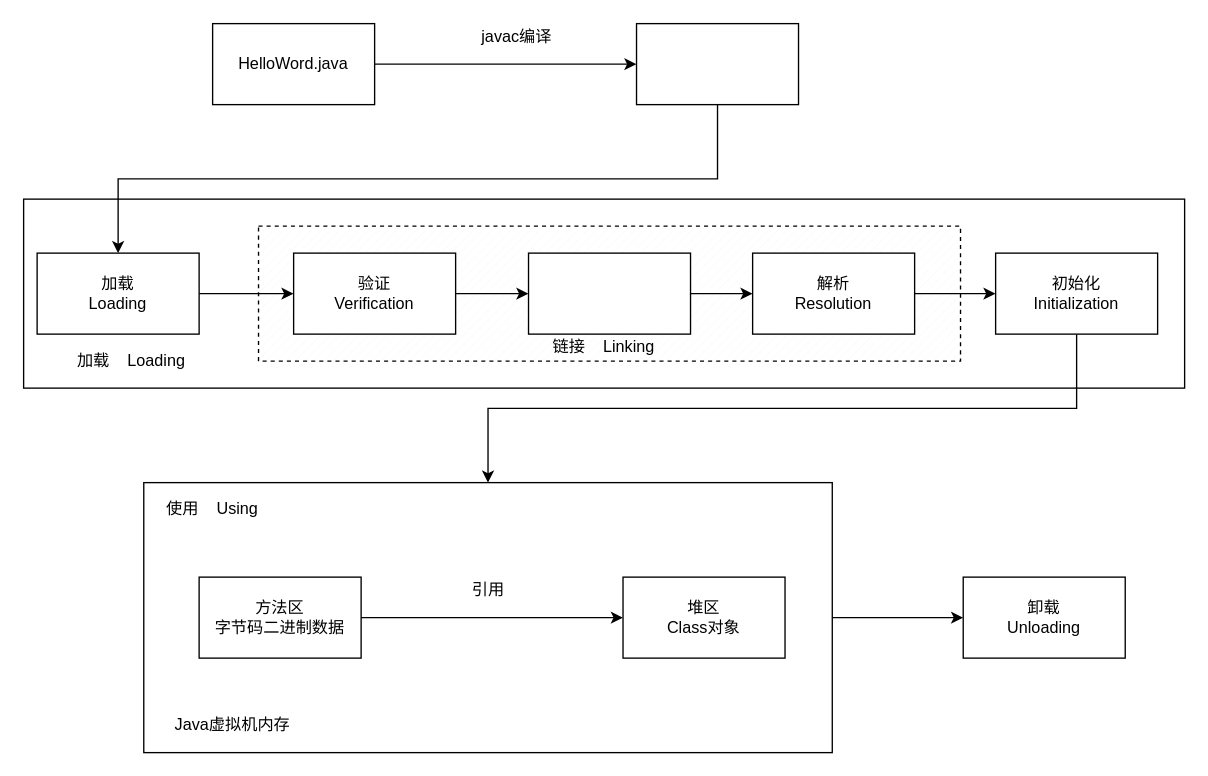
This 1208x776 diagram has some shape labels left out. Each missing label, with the centre of its shape:
HelloWord.class: (x=717, y=63)
准备 Preparation: (x=609, y=293)
